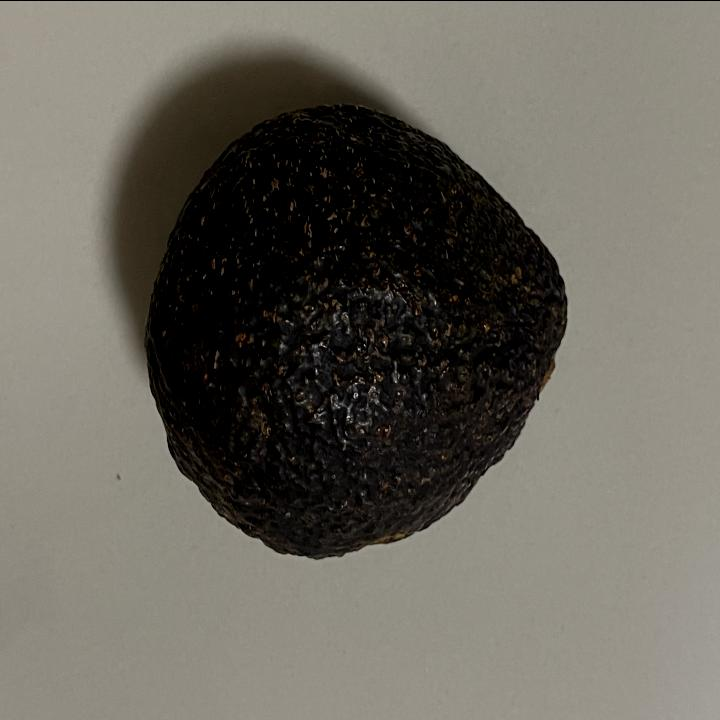Level2: (141, 97, 576, 564)
